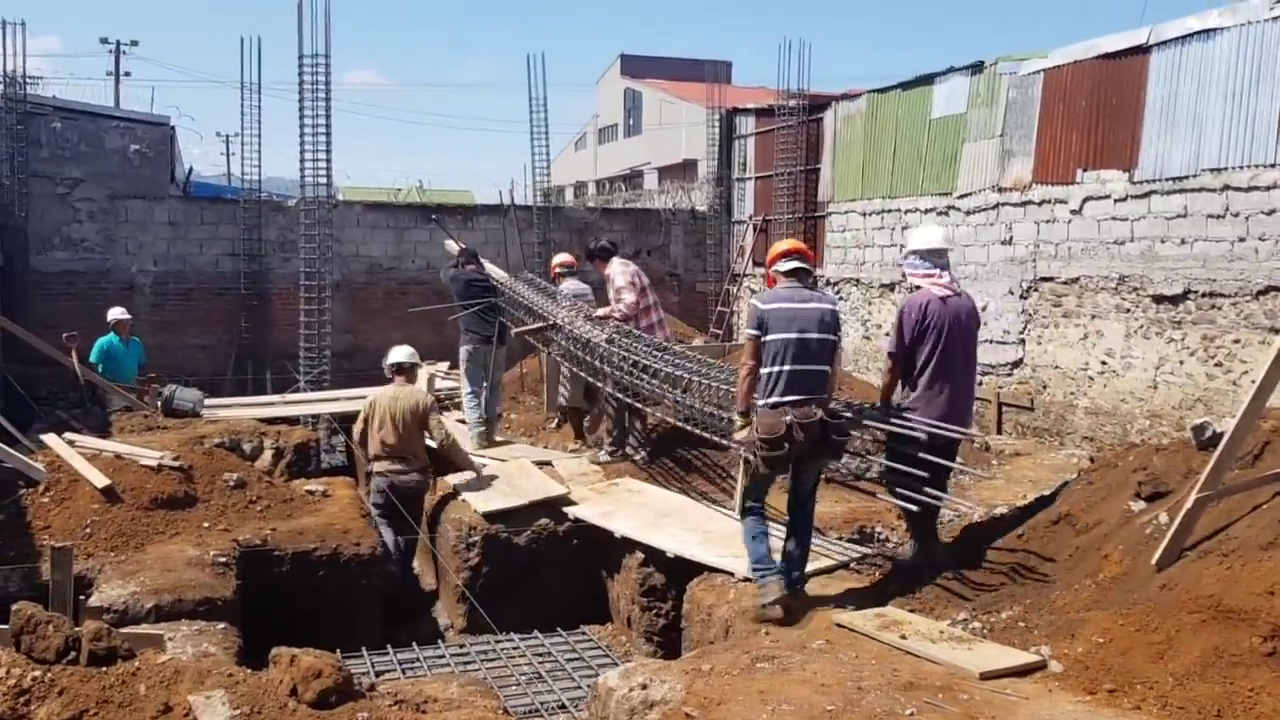helmet: (763, 237, 816, 289), (898, 226, 956, 256), (384, 343, 424, 370), (105, 306, 133, 322), (551, 252, 577, 269)
helmet-off: (585, 234, 620, 277), (455, 247, 483, 273)
helmet-on: (898, 224, 955, 292), (763, 236, 818, 292), (383, 342, 424, 386), (550, 251, 578, 286), (105, 305, 133, 338)
person: (736, 233, 843, 628), (874, 217, 979, 566), (349, 341, 485, 575), (586, 231, 668, 469), (440, 242, 500, 451), (549, 247, 595, 452), (88, 304, 147, 385)
